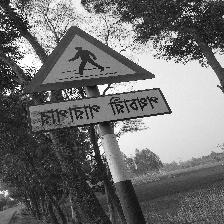Pedestrian-crossing: (21, 26, 169, 133)
